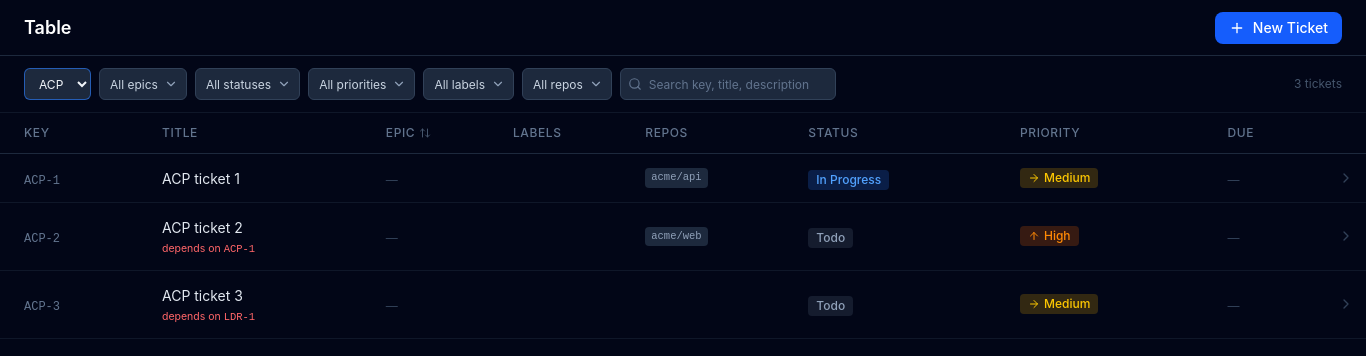
Scenario: Table without a project in its URL › counts only the project's tickets
The image size is (1366, 356).
Click the button "All statuses" at (248,84), box [195, 68, 300, 100]
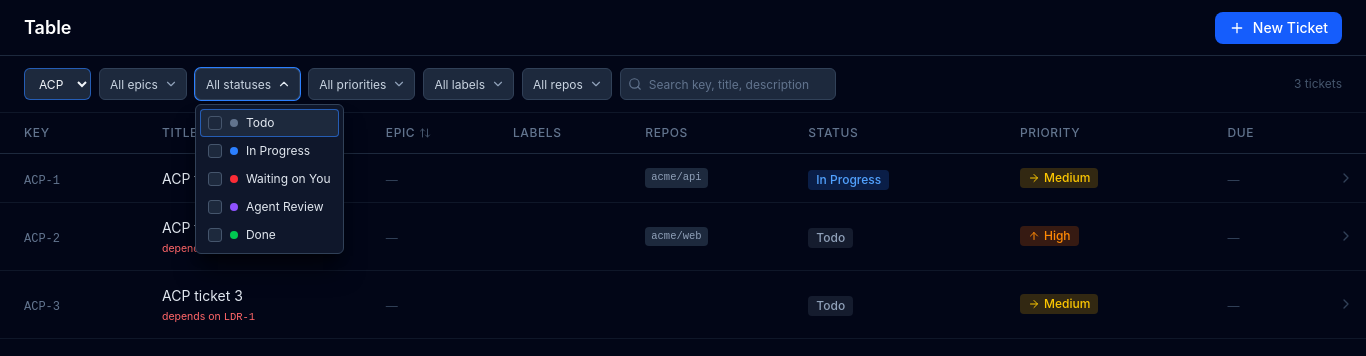
Click the option "Todo" at (269,123), box [200, 109, 339, 137]
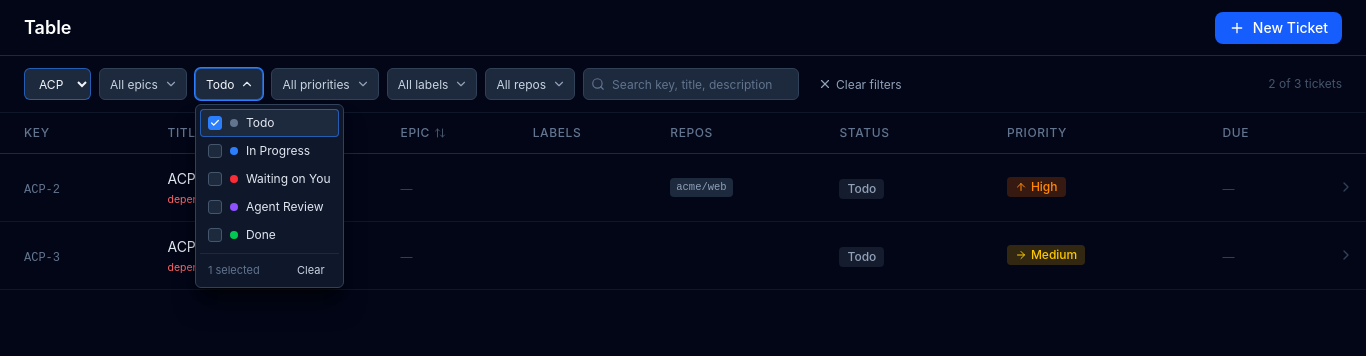
Result: the text "2 of 3 tickets" is shown at [1268, 76, 1342, 92]
